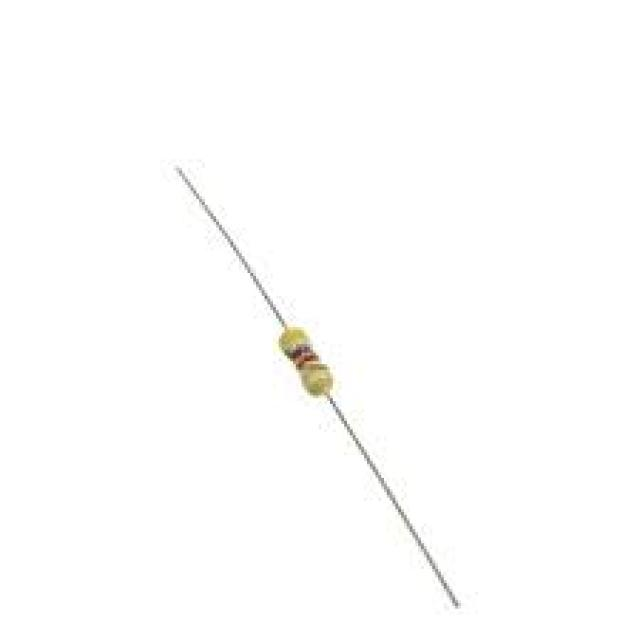Resistor: (278, 325, 333, 397)
